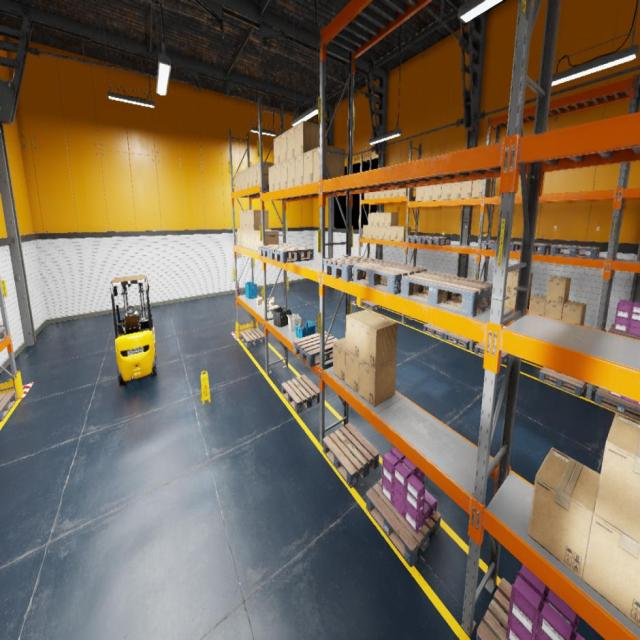box: (528, 447, 600, 579), (583, 509, 640, 627), (594, 413, 640, 543), (360, 316, 398, 368), (359, 359, 396, 406), (346, 310, 380, 359), (313, 145, 345, 182), (295, 121, 319, 157), (546, 276, 570, 304), (345, 350, 360, 393), (562, 300, 586, 326), (333, 338, 345, 382), (510, 271, 532, 294), (544, 300, 568, 320), (259, 230, 279, 251), (249, 210, 269, 230), (256, 162, 274, 184), (529, 294, 547, 316), (471, 179, 491, 198), (254, 230, 272, 251), (304, 149, 313, 184), (510, 294, 530, 308), (506, 270, 518, 293), (296, 154, 304, 186), (286, 127, 294, 159), (287, 158, 295, 188), (460, 181, 473, 199), (280, 131, 287, 163), (280, 161, 288, 189), (397, 226, 410, 242), (450, 182, 461, 200), (274, 135, 280, 165), (442, 183, 452, 200), (385, 213, 398, 226), (274, 163, 280, 190), (268, 166, 274, 192), (423, 185, 432, 201), (432, 185, 441, 200), (252, 164, 258, 186), (399, 187, 413, 196), (416, 186, 424, 201), (390, 227, 397, 241), (504, 292, 510, 307), (248, 166, 252, 187), (245, 167, 249, 188), (250, 230, 254, 250), (246, 210, 250, 230), (242, 210, 246, 230), (384, 227, 390, 240), (378, 227, 384, 240), (373, 226, 379, 239), (379, 213, 385, 226), (373, 213, 379, 226), (368, 212, 374, 225), (241, 170, 245, 189), (243, 229, 247, 248), (269, 306, 278, 314), (238, 172, 242, 190), (363, 225, 368, 238), (263, 304, 272, 311), (368, 226, 373, 238), (267, 297, 274, 305), (392, 189, 399, 197), (235, 173, 238, 191), (247, 230, 250, 248), (240, 229, 243, 247), (237, 228, 240, 246), (240, 211, 243, 229), (262, 298, 270, 304), (386, 190, 392, 198), (374, 191, 380, 199), (256, 297, 262, 304), (380, 191, 386, 198), (369, 192, 374, 199), (364, 192, 369, 198)
forklift: (110, 275, 157, 386)
pallets: (366, 478, 441, 566), (401, 272, 493, 317), (323, 423, 379, 487), (353, 261, 427, 294), (476, 578, 512, 639), (594, 386, 640, 421), (323, 256, 384, 282), (293, 332, 338, 367), (282, 374, 320, 412), (538, 367, 587, 396), (550, 245, 600, 260), (475, 342, 509, 364), (270, 246, 313, 263), (259, 244, 298, 259), (0, 390, 17, 422), (510, 242, 554, 254), (240, 327, 265, 348), (444, 332, 476, 348), (608, 323, 640, 339), (423, 323, 448, 339), (482, 240, 518, 250), (421, 237, 451, 246), (361, 300, 382, 310), (406, 236, 430, 243), (0, 328, 6, 342)
